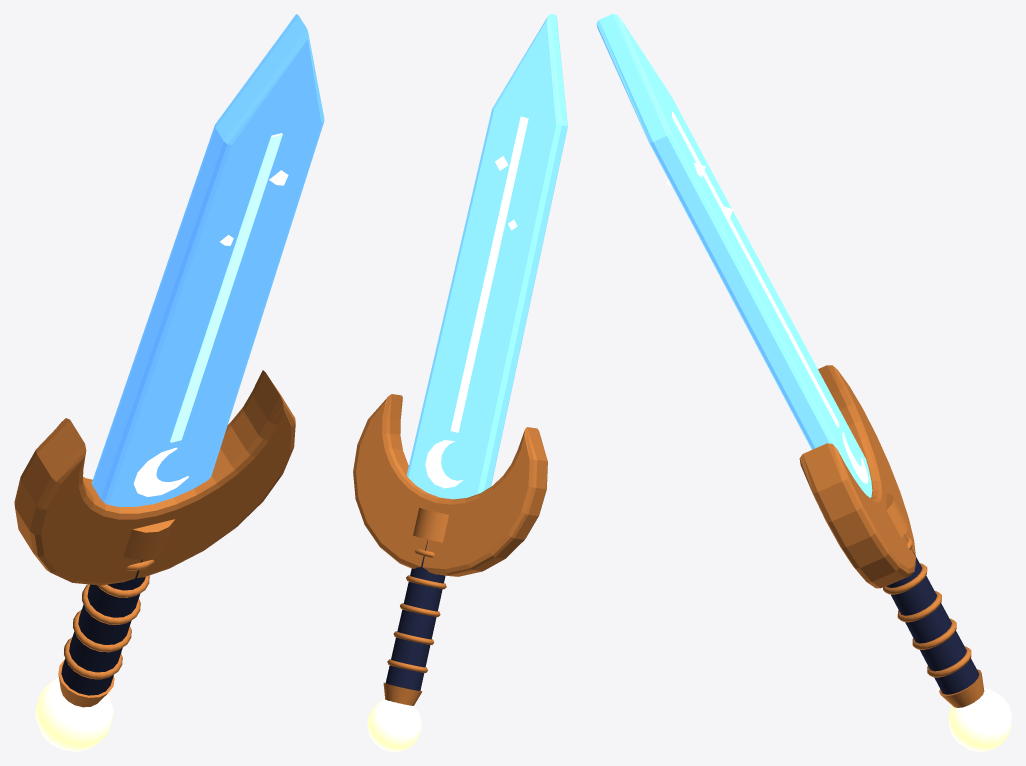
Rendered from hand_eqmoon3.glb.
3 views of the same model, side by side, from view 1: azimuth 30°, elevation 25°; view 2: azimuth 150°, elevation 25°; view 3: azimuth 270°, elevation 25° (orthographic). The views are drawn at different scales.
Bounding box in the file's own units: 1.4 × 4.66 × 2.39.
